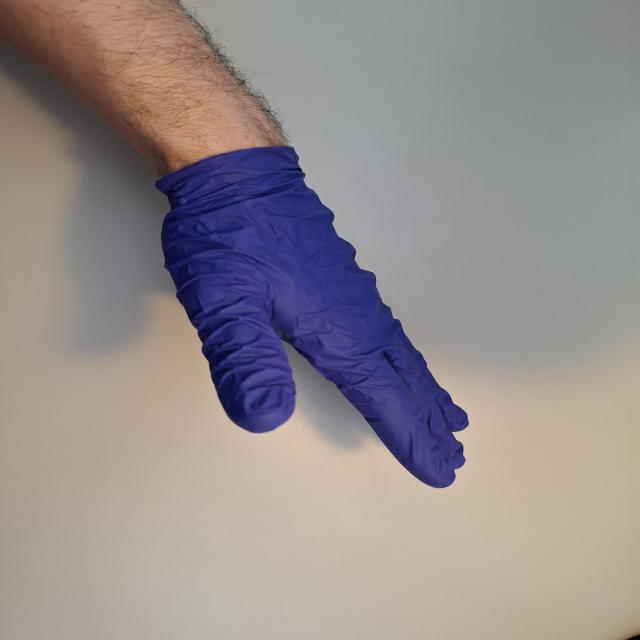glove_on: (150, 144, 473, 491)
